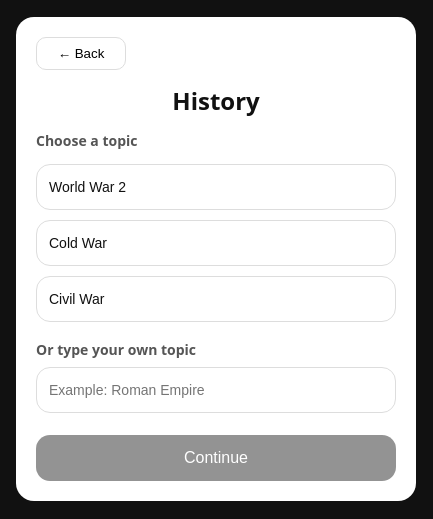
it: TopicSelection › enables Continue when a preset topic is selected
The image size is (433, 519).
Click the button "Cold War". click: (78, 243)
box: [36, 220, 396, 266]
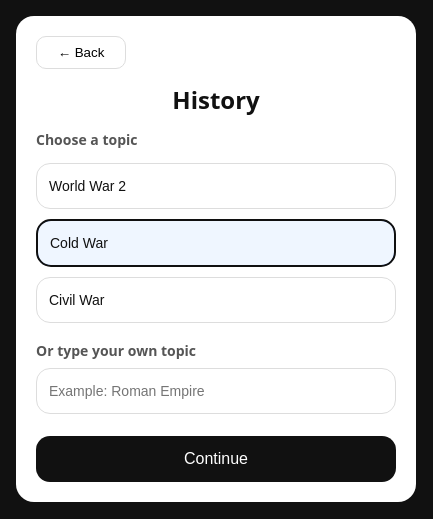
Expected: the button "Continue" is enabled, [36, 436, 396, 482]
